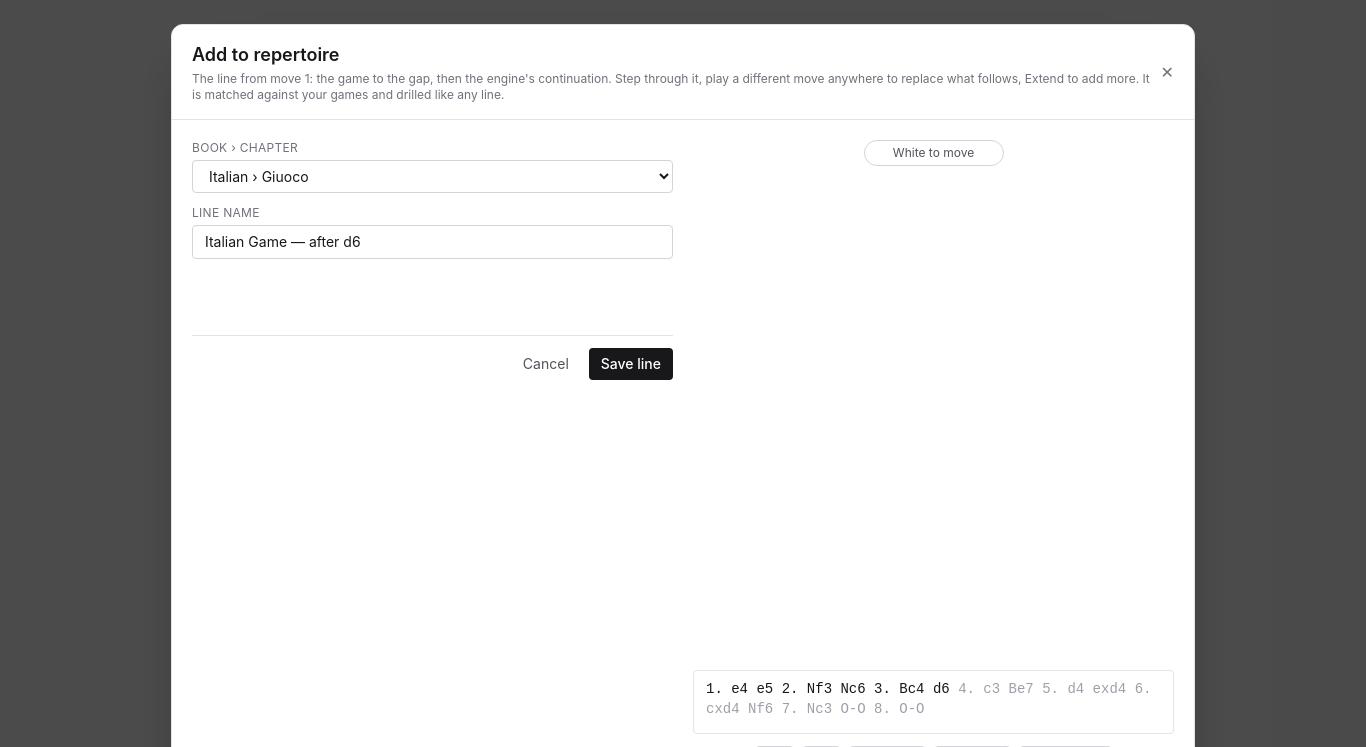
Test: AddLineModal › a duplicate and a conflict are shown in the modal and leave it open
The image size is (1366, 747).
Step 1. Click the button "Save line" → {"x": 631, "y": 364}, box [589,348,673,380]
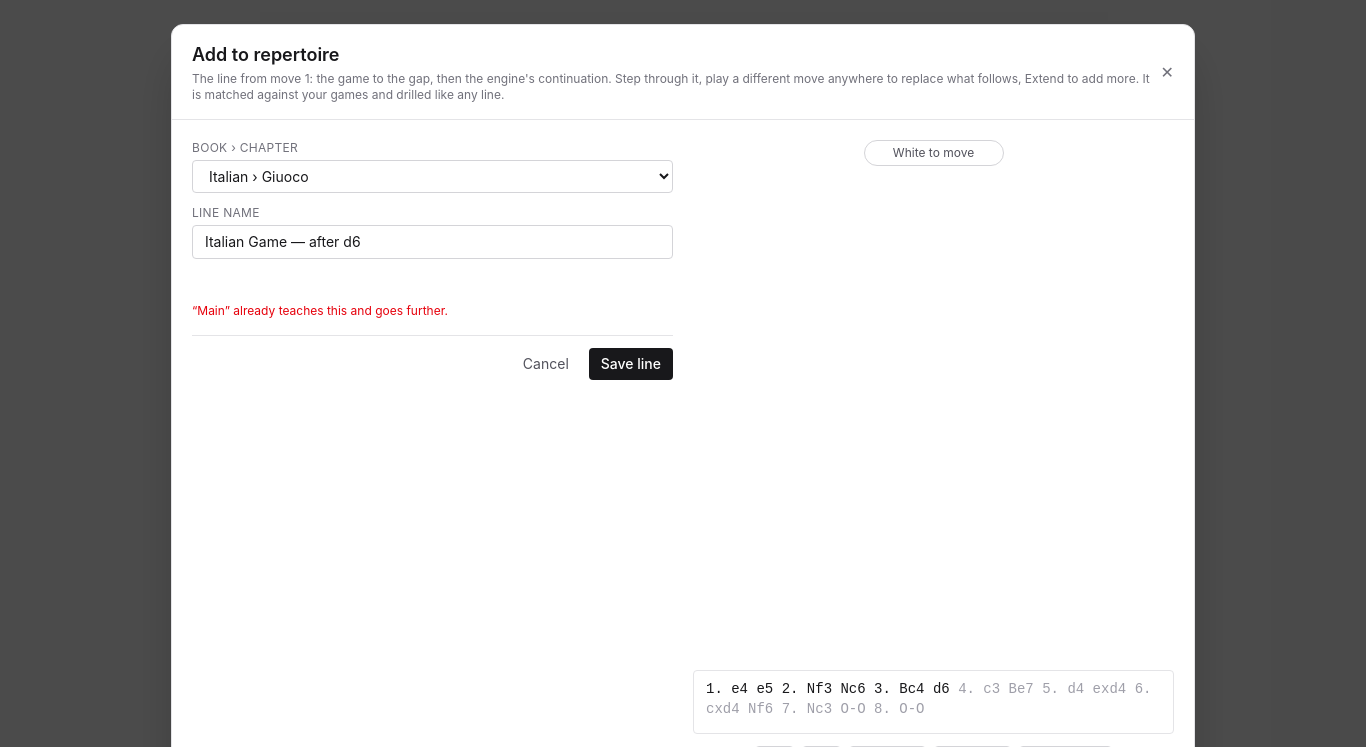
expect the text "“Main” already teaches this and goes further." is shown: met, box [192,303,448,318]
Step 2. Click the button "Save line" → {"x": 631, "y": 364}, box [589,348,673,380]
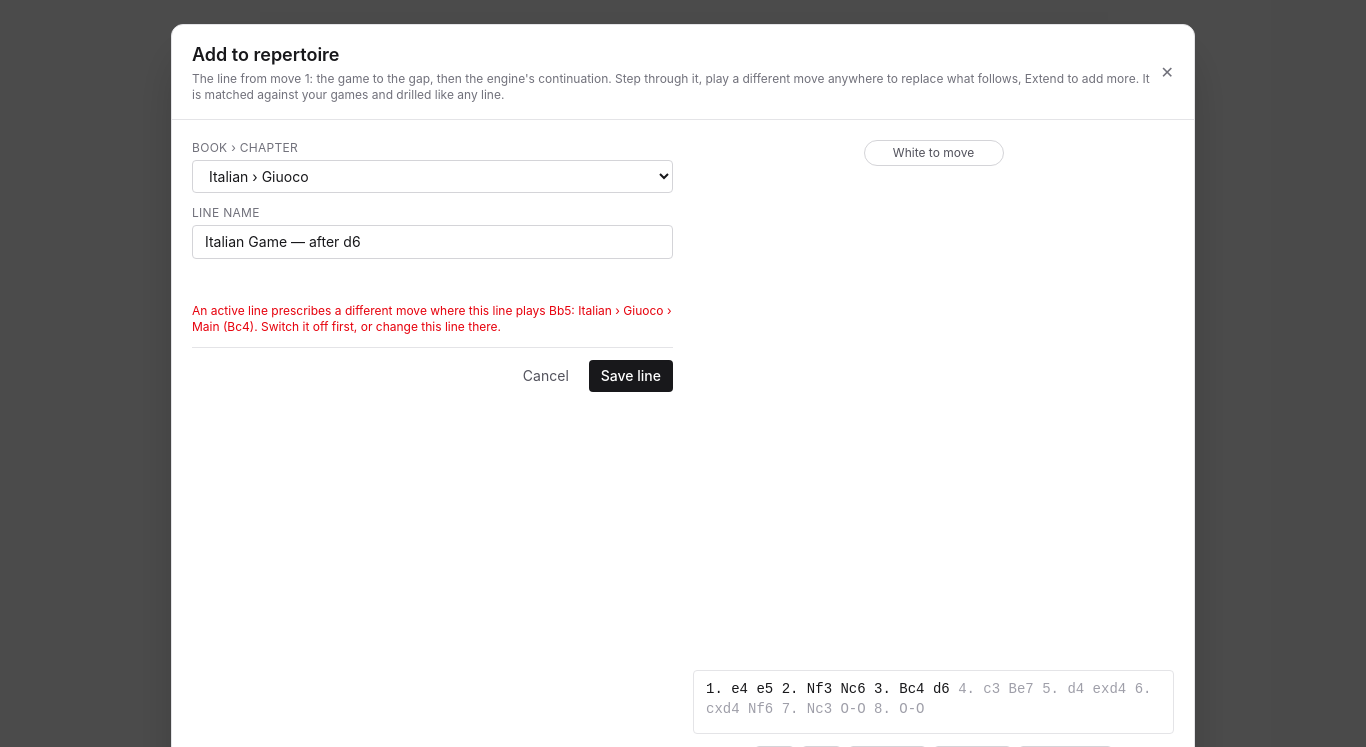
expect the button "Save line" is enabled: met, box [589,360,673,392]
expect the text "An active line prescribes a different move where this line plays Bb5: Italian › Giuoco › Main (Bc4)" is shown: met, box [192,303,672,334]
